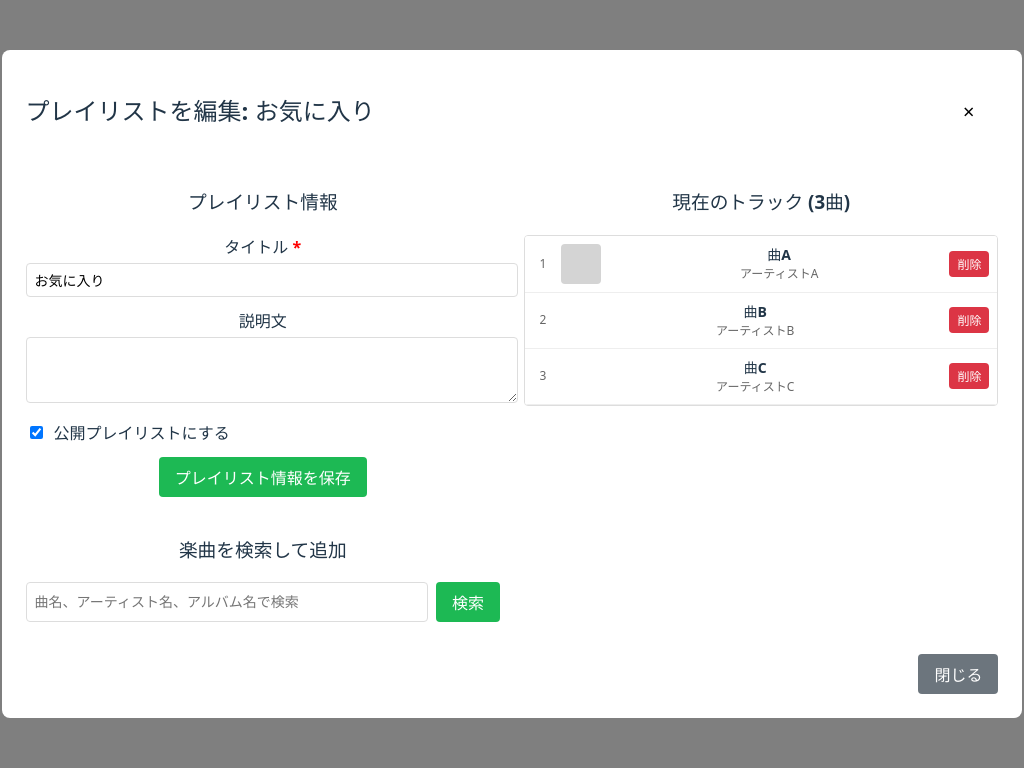
Test case: EditPlaylistModal › 楽曲の検索 › 検索ボタンで検索し、曲名・アーティスト・アルバムを結果に表示する
Expected: the heading "現在のトラック (3曲)" is shown, [672,189,850,214]
Type "追加したい曲" into the field with placeholder "曲名、アーティスト名、アルバム名で検索" at [227, 602], box [26,582,428,622]
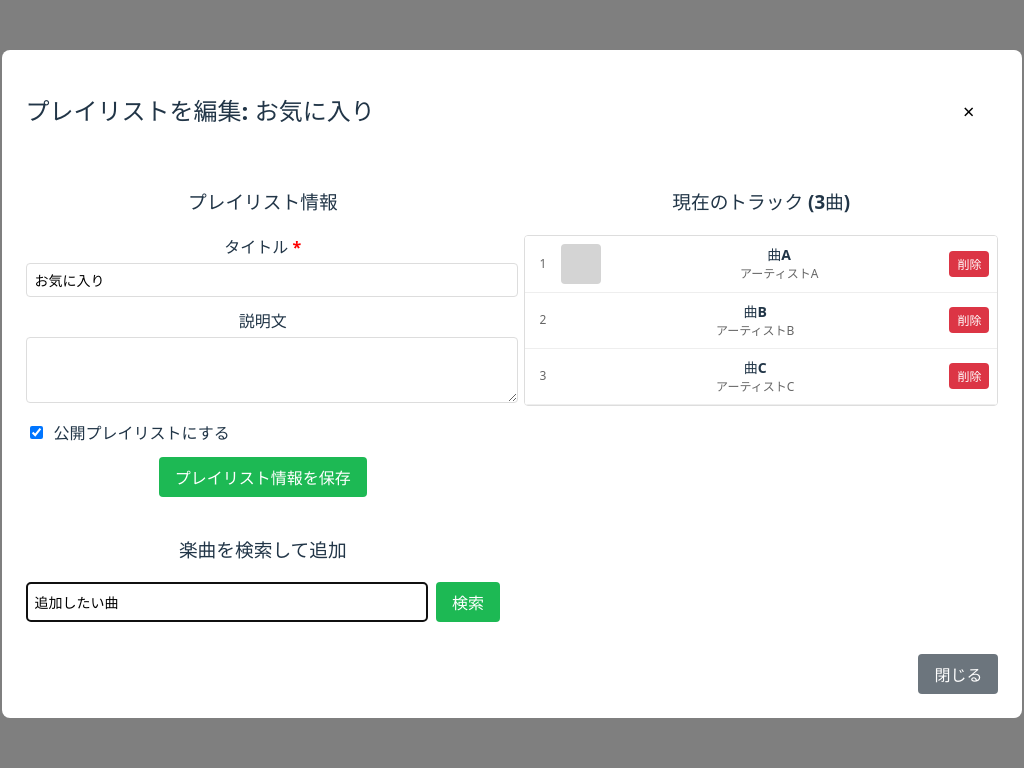
Click the button "検索" at [468, 602], box [436,582,500,622]
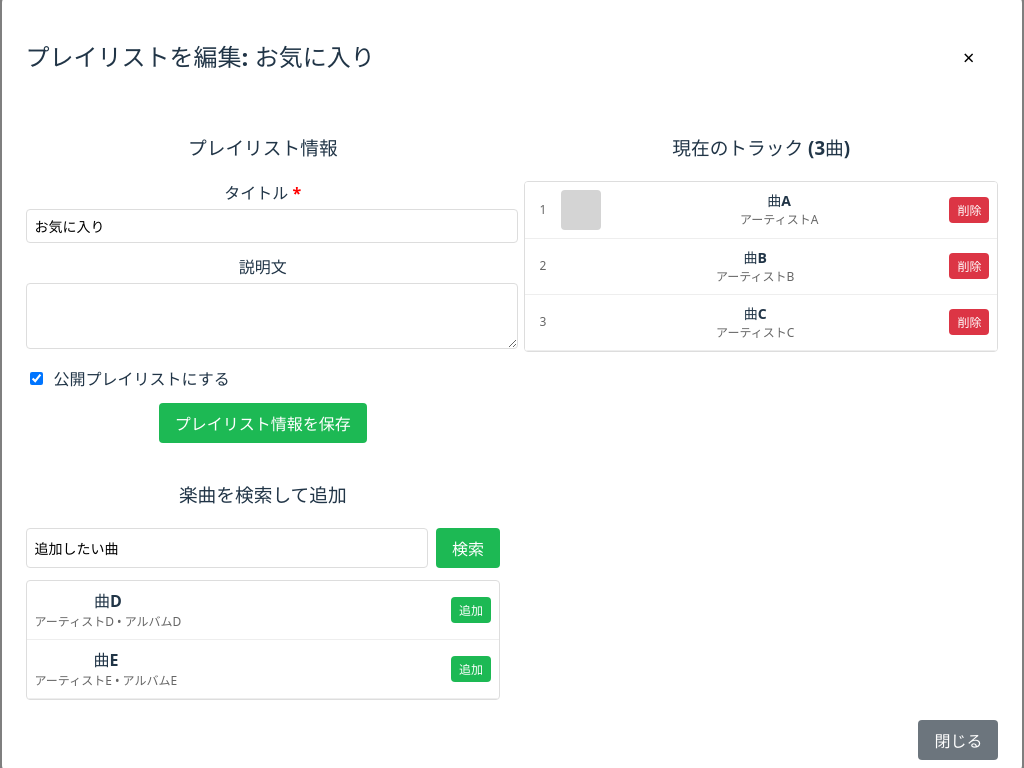
Result: the text "曲D" is shown at [94,590,122,612]
Result: the text "アーティストD • アルバムD" is shown at [35,613,181,631]
Result: the text "曲E" is shown at [93,649,118,671]
